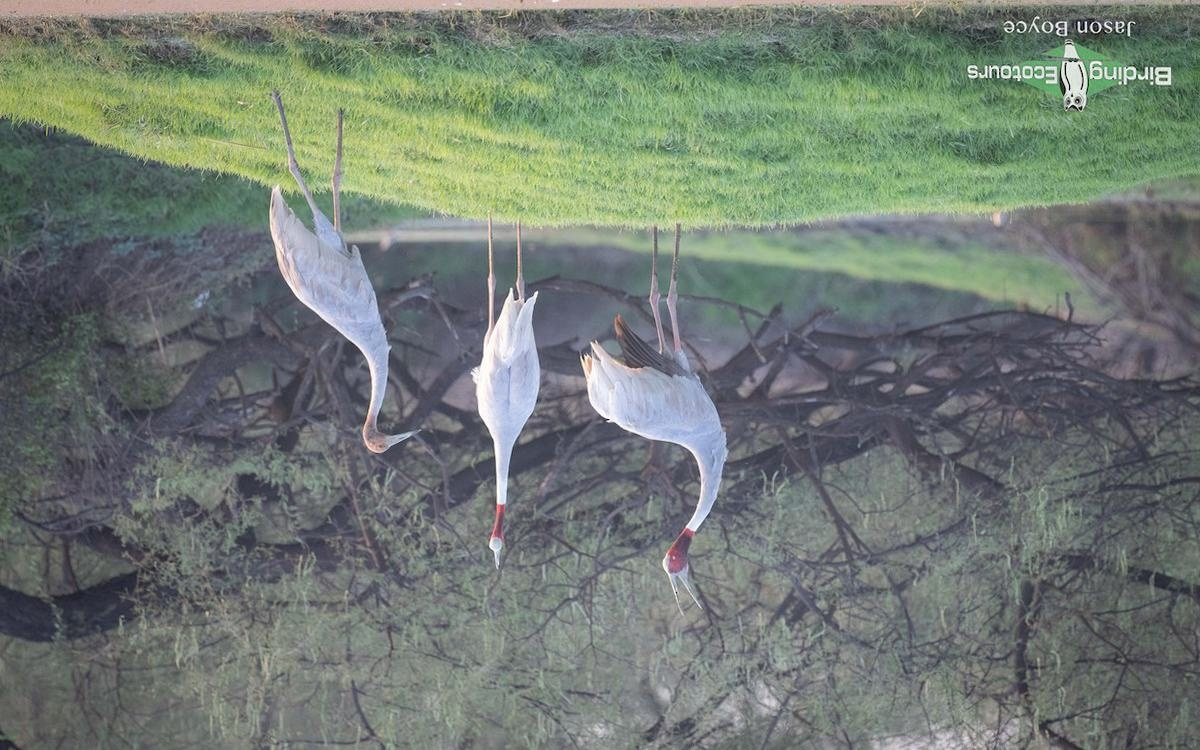crane: (583, 230, 753, 635), (258, 80, 429, 461), (460, 206, 553, 568)
